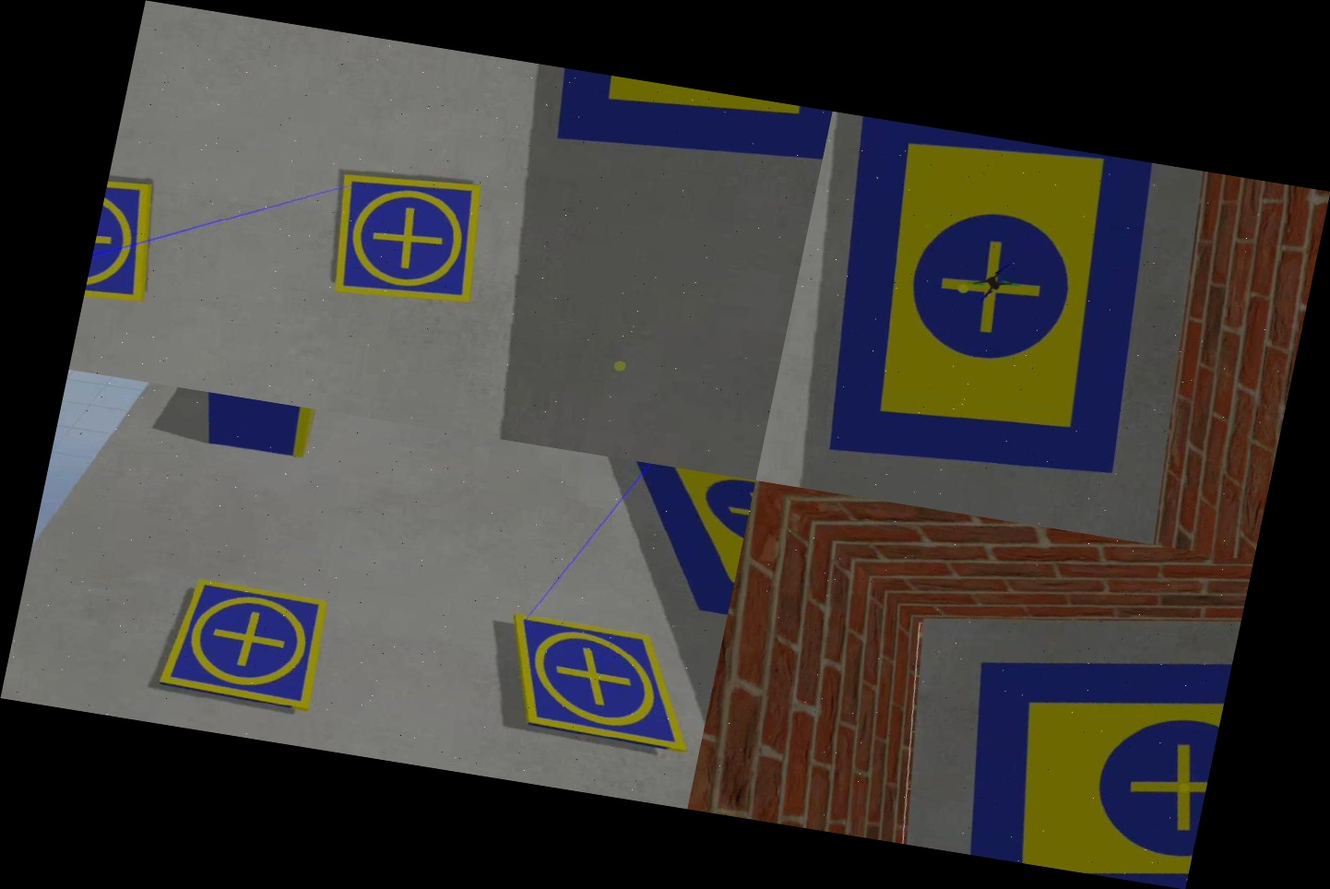large_base: (791, 116, 1180, 499), (939, 599, 1236, 889), (531, 65, 832, 183), (582, 457, 755, 629)
small_base: (489, 598, 714, 766), (147, 568, 337, 720), (319, 164, 497, 317), (83, 173, 171, 311)
